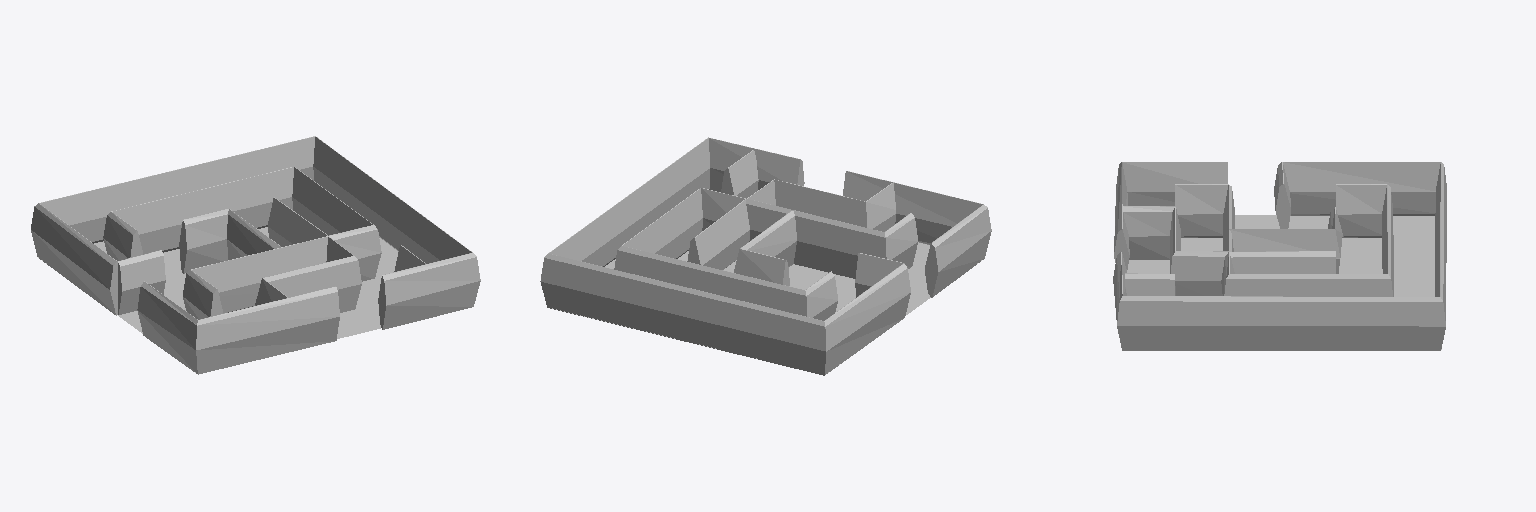
File: maze.obj
3 renders of one model, left to right at view 1: azimuth 30°, elevation 25°; view 2: azimuth 150°, elevation 25°; view 3: azimuth 270°, elevation 25°, orthographic.
Parts seen in each view (by area): view 1: Labyrinth; view 2: Labyrinth; view 3: Labyrinth.
Boxes of the visible parts, x1=… form: Labyrinth: x1=31, y1=136, x2=480, y2=374; Labyrinth: x1=540, y1=137, x2=991, y2=375; Labyrinth: x1=1113, y1=162, x2=1446, y2=350.
Size of the model in its own units: 6.28 by 1.13 by 6.28.